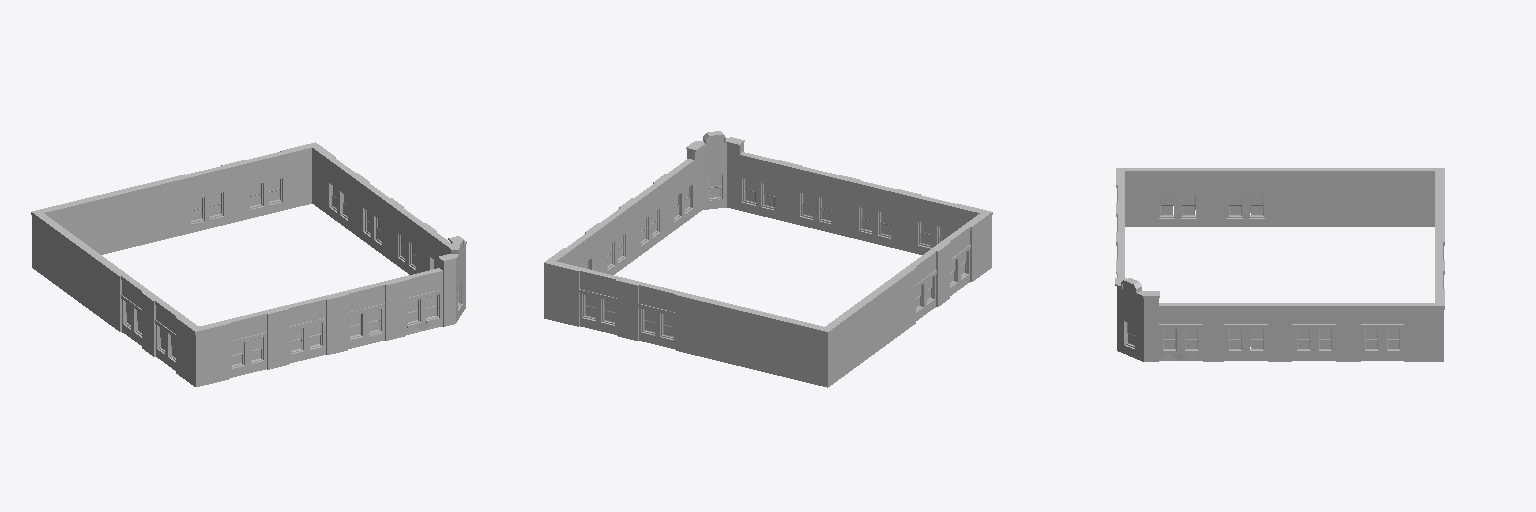
File: Building_LevelModular_Top_LOD1.obj
3 views of the same model, side by side, from view 1: azimuth 30°, elevation 25°; view 2: azimuth 150°, elevation 25°; view 3: azimuth 270°, elevation 25° (orthographic).
Visible parts, largest first — view 1: Building_LevelModular_Top_LOD1 Building_LevelModular_Top; view 2: Building_LevelModular_Top_LOD1 Building_LevelModular_Top; view 3: Building_LevelModular_Top_LOD1 Building_LevelModular_Top.
Boxes of the visible parts, box(x1,y1,x2,y2) form: Building_LevelModular_Top_LOD1 Building_LevelModular_Top: box(31, 142, 466, 386); Building_LevelModular_Top_LOD1 Building_LevelModular_Top: box(544, 131, 992, 387); Building_LevelModular_Top_LOD1 Building_LevelModular_Top: box(1115, 168, 1444, 361).
Size of the model in its own units: 2414 by 601 by 2414.